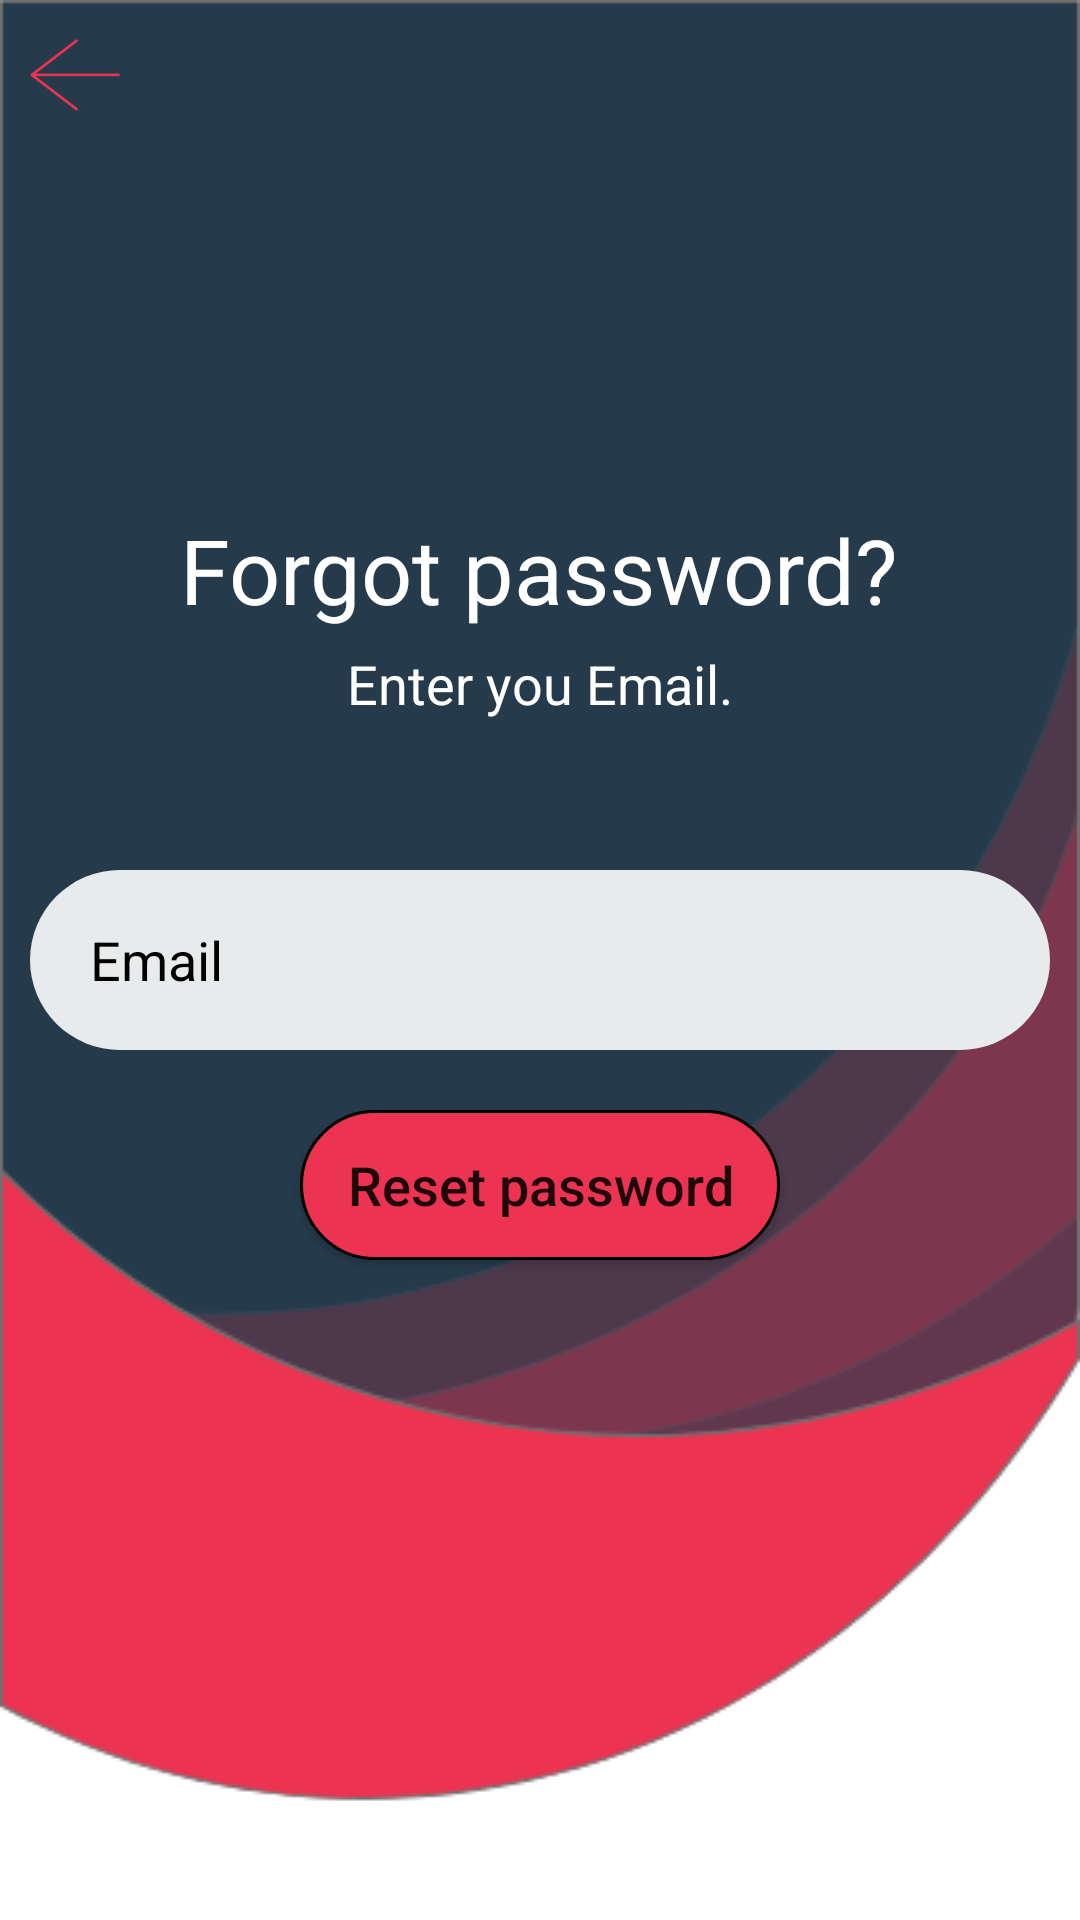

Icons on this 1080px x 1920px Android screen, each with the point to tap as [x,y]:
back: [75,75]
